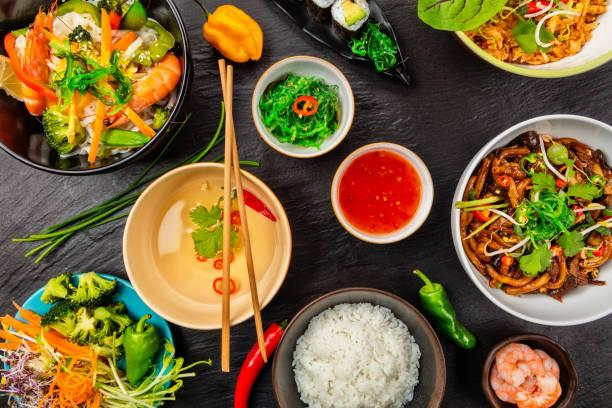Braised Crucian Carp: (1, 1, 194, 175), (452, 114, 610, 326), (5, 273, 174, 408)
